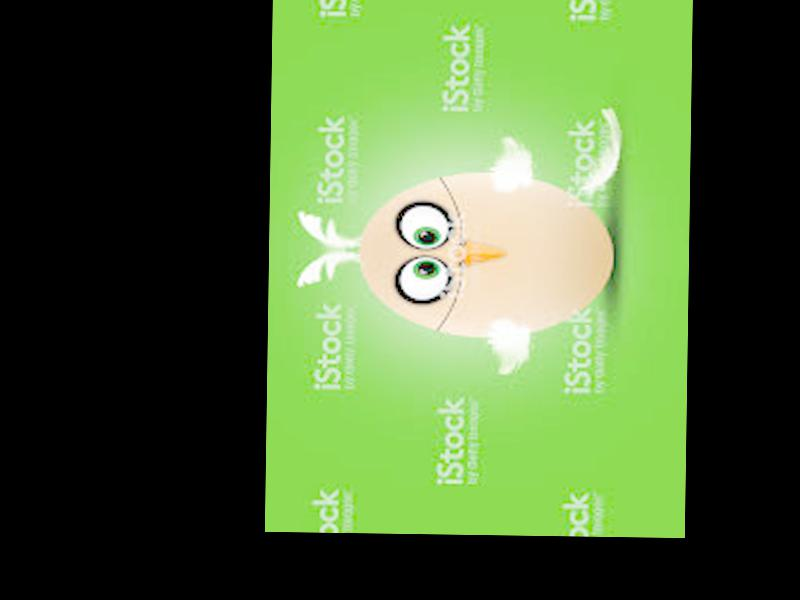Eggs: (357, 170, 617, 337)
